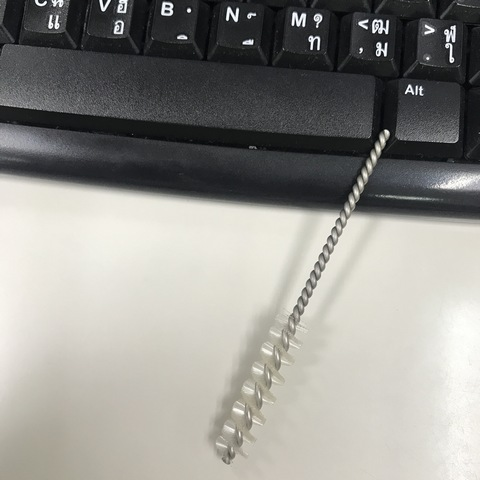Twist Brush-B: (214, 124, 396, 470)
